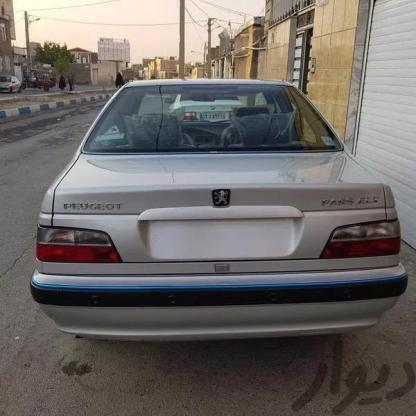Car: (22, 77, 406, 350), (170, 82, 250, 133), (0, 74, 28, 98)
